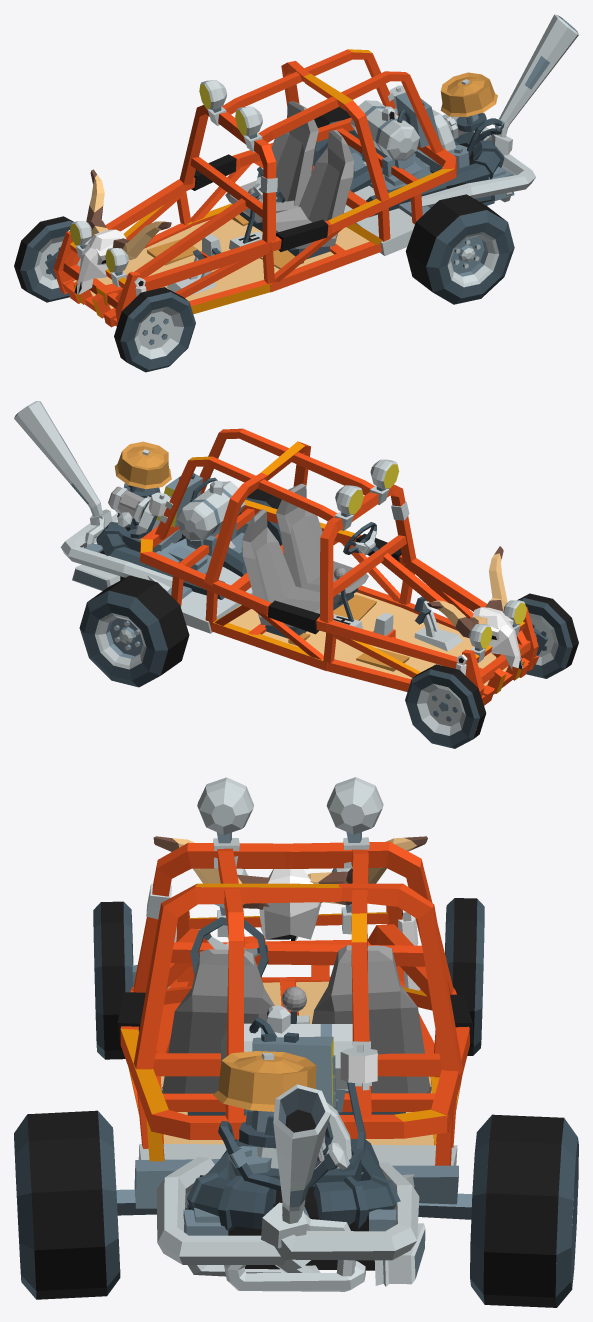
File: Buggy.glb
3 renders of one model, top to bottom at view 1: azimuth 30°, elevation 25°; view 2: azimuth 150°, elevation 25°; view 3: azimuth 270°, elevation 25°, orthographic. The views are drawn at different scales.
Parts seen in each view (by area): view 1: group1351783712, group228842624, group552694142, group1586929722, group407306559, group2069554521, group35187853, group1345467828, group1522625764, group1384551819, group237616497, group610141389 (+26 smaller); view 2: group1351783712, group1863958756, group35187853, group407306559, group1586929722, group1345467828, group552694142, group2069554521, group1384551819, group237616497, group195980357, group1522625764 (+27 smaller); view 3: group1351783712, group1863958756, group228842624, group237616497, group1384551819, group407306559, group1586929722, group610141389, group552694142, group2069554521, group35187853, group1522625764 (+20 smaller).
Boxes of the visible parts, x1,y1,x2,y2 form: group1351783712: (350,14,578,217); group228842624: (405,194,514,304); group552694142: (114,287,195,372); group1586929722: (261,130,354,258); group407306559: (225,101,318,231); group2069554521: (74,169,171,294); group35187853: (14,216,80,302); group1345467828: (73,219,333,308); group1522625764: (258,71,443,153); group1384551819: (179,105,276,245); group237616497: (281,61,389,201); group610141389: (270,145,457,251); group1351783712: (14,401,247,599); group1863958756: (79,575,189,687); group35187853: (405,664,486,748); group407306559: (241,509,319,638); group1586929722: (276,483,368,610); group1345467828: (262,592,508,685); group552694142: (517,593,578,678); group2069554521: (427,546,522,670); group1384551819: (319,484,416,623); group237616497: (204,441,310,585); group195980357: (155,456,337,539); group1522625764: (199,428,374,495); group1351783712: (157,1044,425,1291); group1863958756: (470,1114,578,1307); group228842624: (14,1110,120,1299); group237616497: (133,883,462,1074); group1384551819: (133,841,453,994); group407306559: (312,945,431,1114); group1586929722: (161,949,274,1115); group610141389: (120,989,448,1139); group552694142: (93,901,133,1059); group2069554521: (153,836,427,940); group35187853: (445,898,484,1055); group1522625764: (217,848,244,1121).
Bounding box in the file's own units: 3.58 × 1.39 × 1.88.
